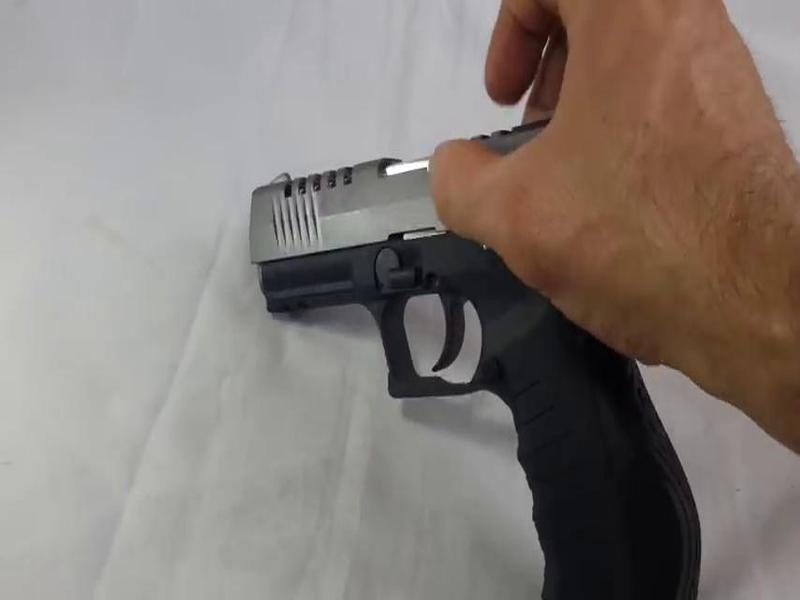Pistola: (235, 119, 682, 585)
